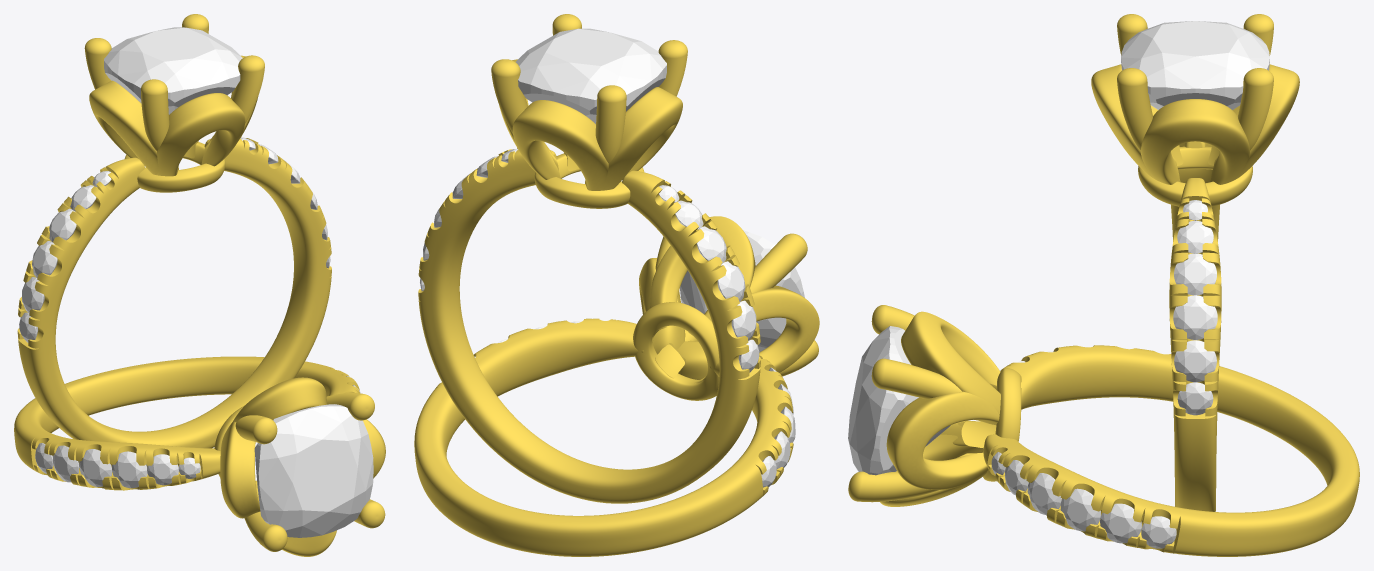
3 renders of one model, left to right at view 1: azimuth 30°, elevation 25°; view 2: azimuth 150°, elevation 25°; view 3: azimuth 270°, elevation 25°, orthographic. The views are drawn at different scales.
Visible parts, largest first — view 1: DDD.3dm, Diamond_Cushion Square (×2), Diamond_Round (×7); view 2: DDD.3dm, Diamond_Cushion Square (×2), Diamond_Round (×4); view 3: DDD.3dm, Diamond_Cushion Square (×2), Diamond_Round (×9).
Boxes of the visible parts, bbox=[...] form: DDD.3dm: bbox=[14, 14, 385, 556]; Diamond_Cushion Square (×2): bbox=[104, 27, 373, 537]; Diamond_Round (×7): bbox=[22, 208, 178, 488]; DDD.3dm: bbox=[414, 14, 819, 556]; Diamond_Cushion Square (×2): bbox=[516, 28, 804, 351]; Diamond_Round (×4): bbox=[675, 200, 756, 340]; DDD.3dm: bbox=[848, 14, 1359, 556]; Diamond_Cushion Square (×2): bbox=[848, 21, 1269, 475]; Diamond_Round (×9): bbox=[1027, 220, 1217, 548].
Bounding box in the file's own units: 1.92 × 2.48 × 2.48.
